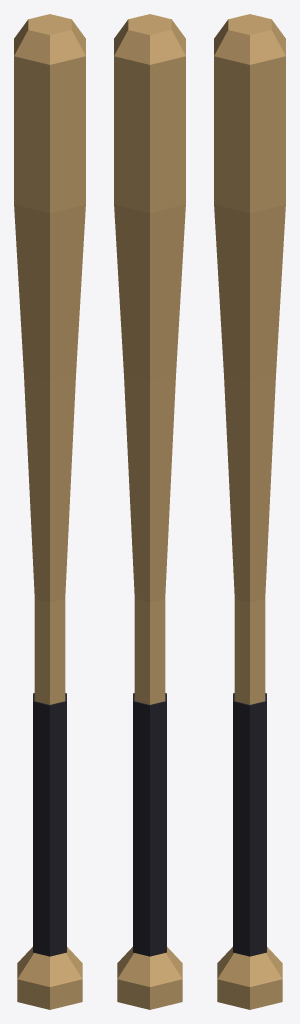
Rendered from Prop_WZ_Bat_LOD1.glb.
3 renders of one model, left to right at view 1: azimuth 90°, elevation 25°; view 2: azimuth 150°, elevation 25°; view 3: azimuth 270°, elevation 25°, orthographic.
Visible parts, largest first — view 1: Prop_WZ_Bat; view 2: Prop_WZ_Bat; view 3: Prop_WZ_Bat.
Boxes of the visible parts, x1,y1,x2,y2 form: Prop_WZ_Bat: (14, 14, 85, 1009); Prop_WZ_Bat: (114, 14, 185, 1009); Prop_WZ_Bat: (214, 14, 285, 1009).
Size of the model in its own units: 0.066 by 0.85 by 0.0572.
